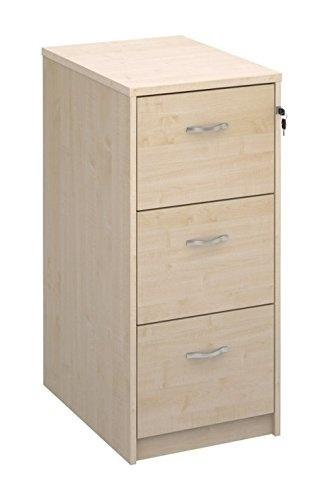cabinet_door: (137, 314, 275, 430), (137, 201, 275, 315), (136, 89, 275, 201)
handle: (183, 341, 231, 369), (183, 229, 231, 256), (182, 118, 230, 143)
